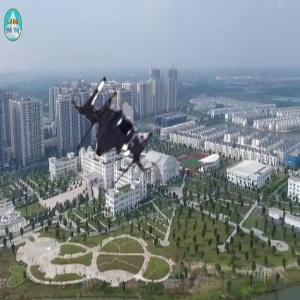drone: (56, 69, 177, 190)
